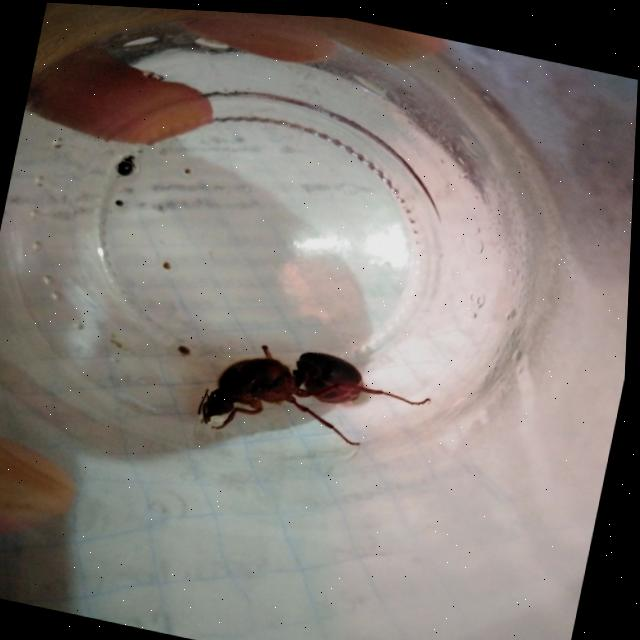Alive-Female-Dealate: (197, 327, 441, 469)
